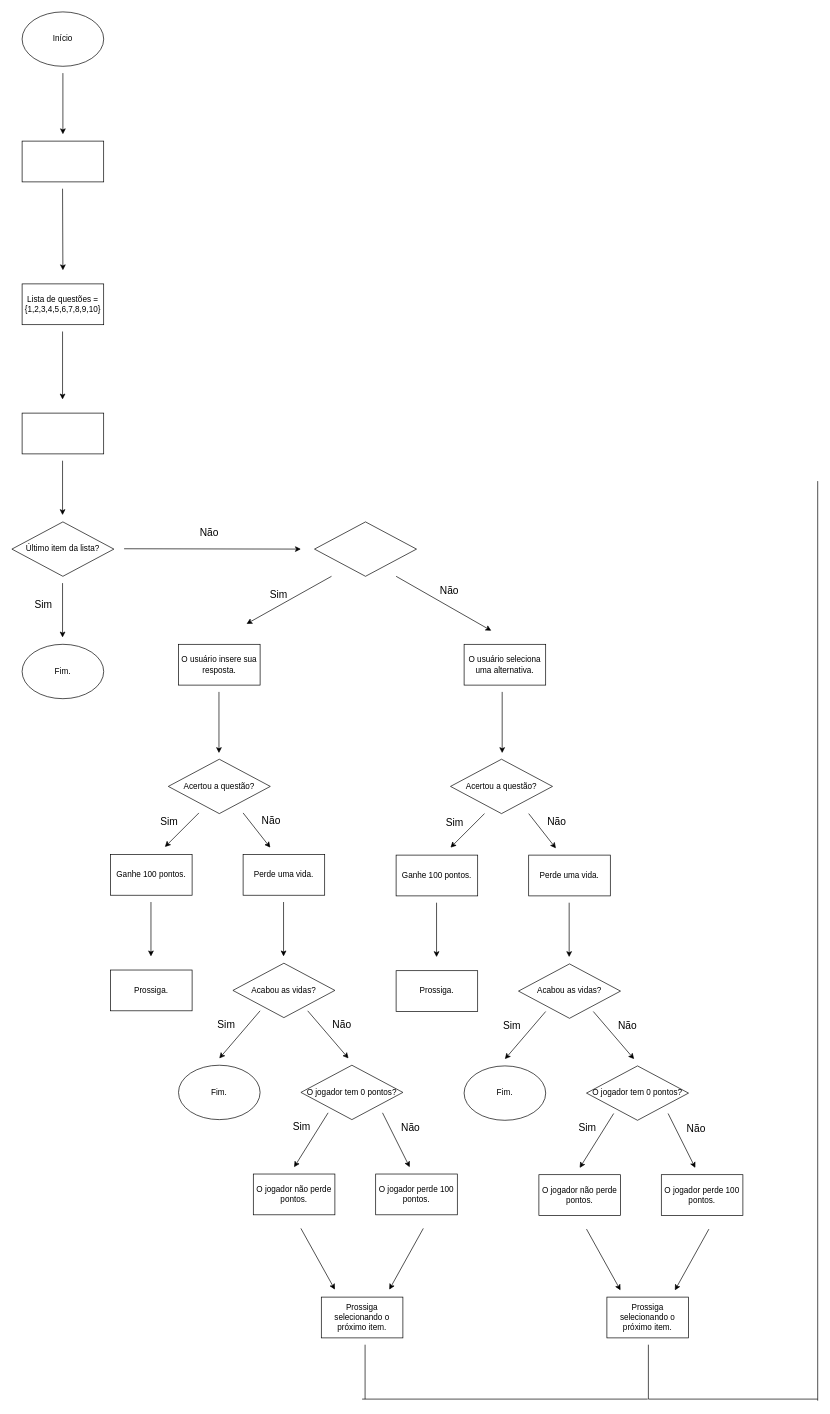
Image size: 830x1414. Some labels were removed from this diagram. The centre of each missing label's shape, as x and y in pixels:
Embaralhe as questões e selecione um item.: [62,433]
O usuário insere o seu nome.: [62,161]
É uma questão de alternativa?: [365,548]
